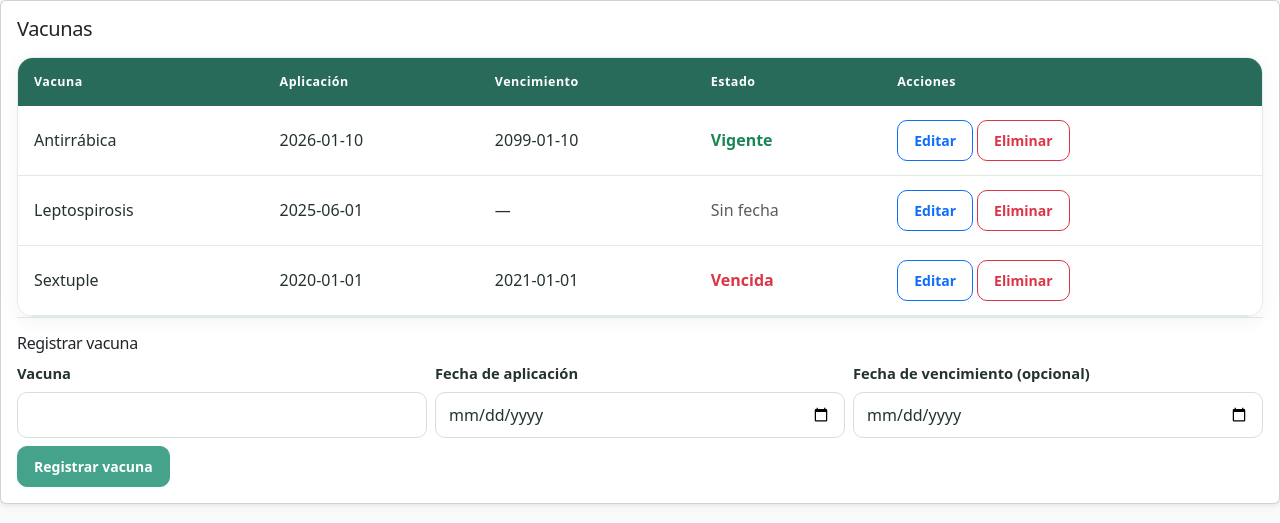
Test case: VacunasMascota › cancelar la edición vuelve al formulario de registro
This screenshot has width=1280, height=523.
Click the button with aria-label "Editar vacuna Sextuple" at (935, 280), box [897,260,973,301]
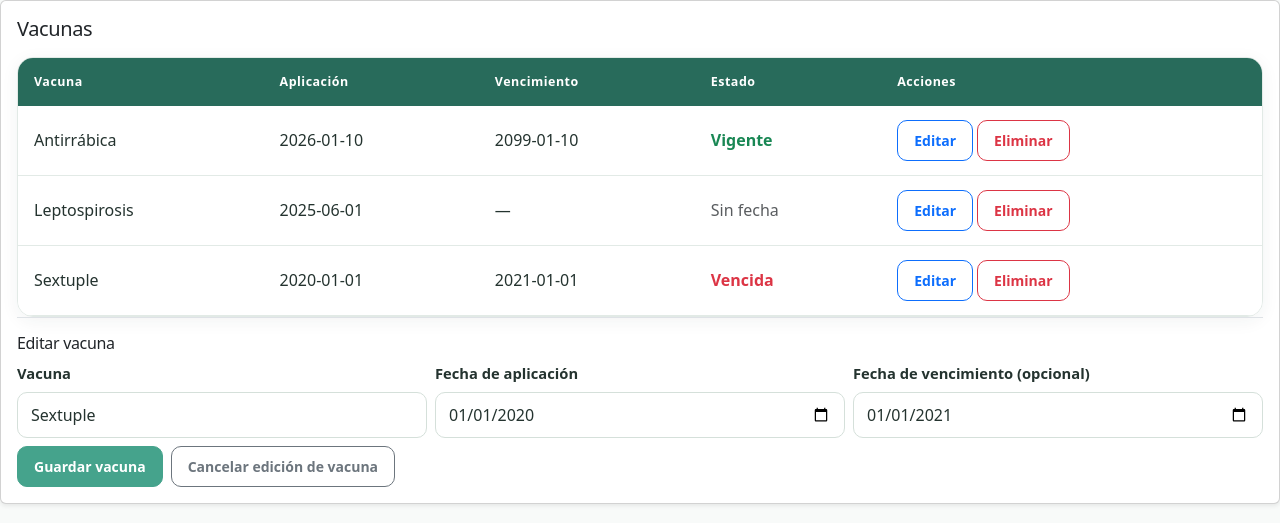
Click the button "Cancelar edición de vacuna" at (283, 466), box [171,446,395,487]
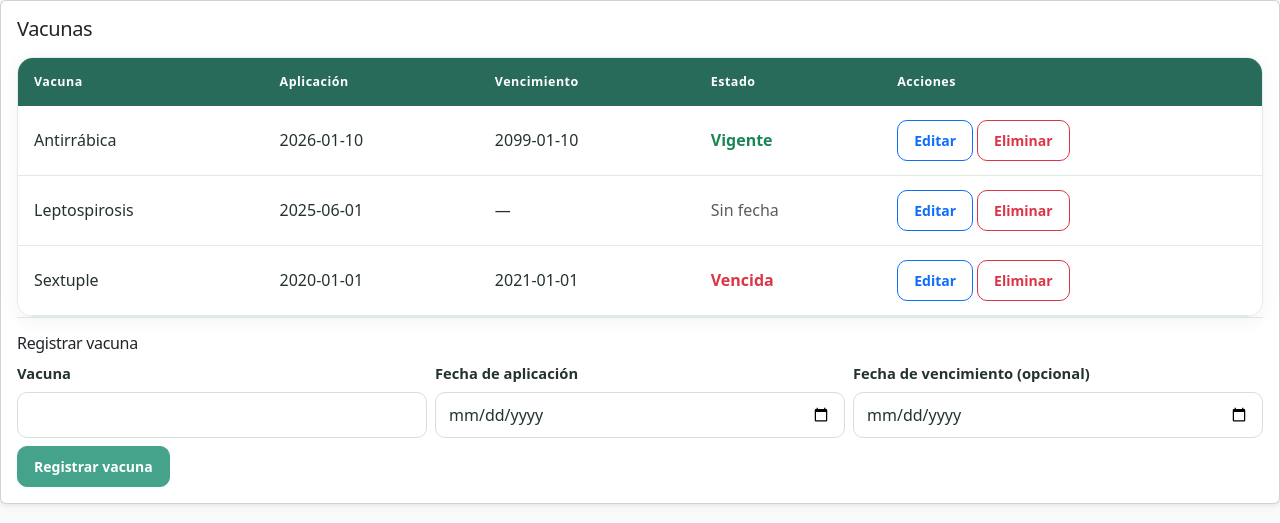
Expected: the button "Registrar vacuna" is shown, [17,446,170,487]
Expected: the field labelled "Vacuna" is empty, [17,392,427,438]
